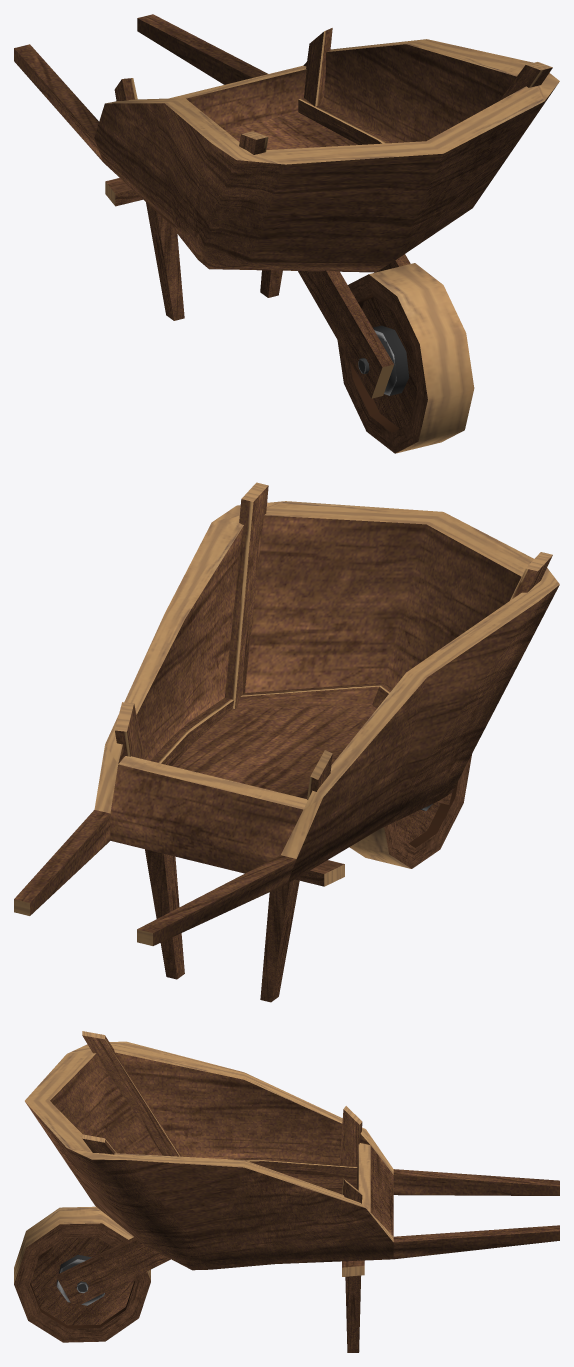
File: Cart.fbx
3 views of the same model, one above another, from view 1: azimuth 30°, elevation 25°; view 2: azimuth 150°, elevation 25°; view 3: azimuth 270°, elevation 25° (orthographic). The views are drawn at different scales.
Parts seen in each view (by area): view 1: Cart; view 2: Cart; view 3: Cart.
Boxes of the visible parts, x1,y1,x2,y2 form: Cart: [14, 14, 559, 453]; Cart: [14, 482, 559, 1002]; Cart: [14, 1031, 559, 1352].
Bounding box in the file's own units: 84.63 × 83 × 165.
